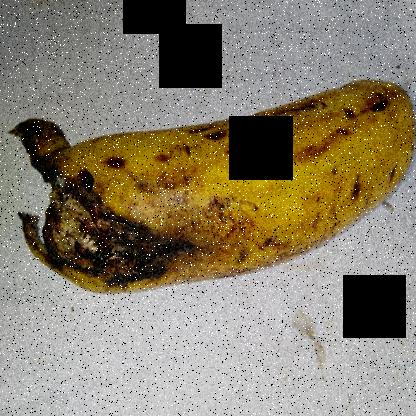ripe: (196, 74, 415, 293)
rotten: (13, 97, 233, 327)
